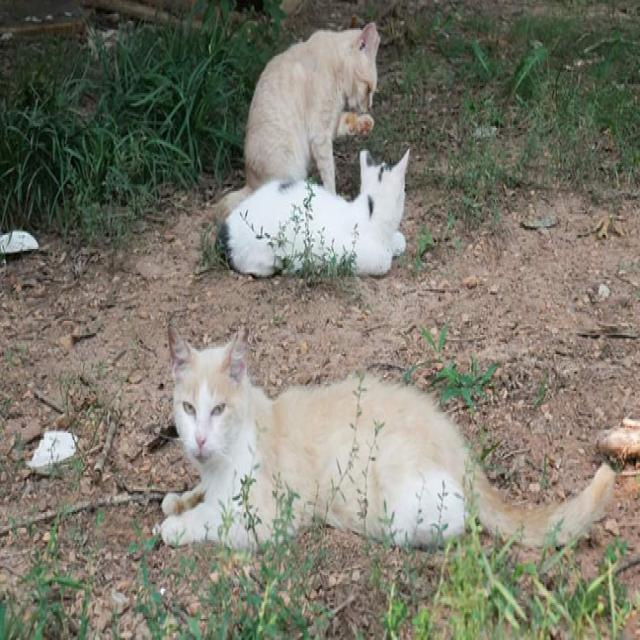cat: (159, 326, 614, 550), (220, 23, 380, 216), (220, 151, 409, 276)
